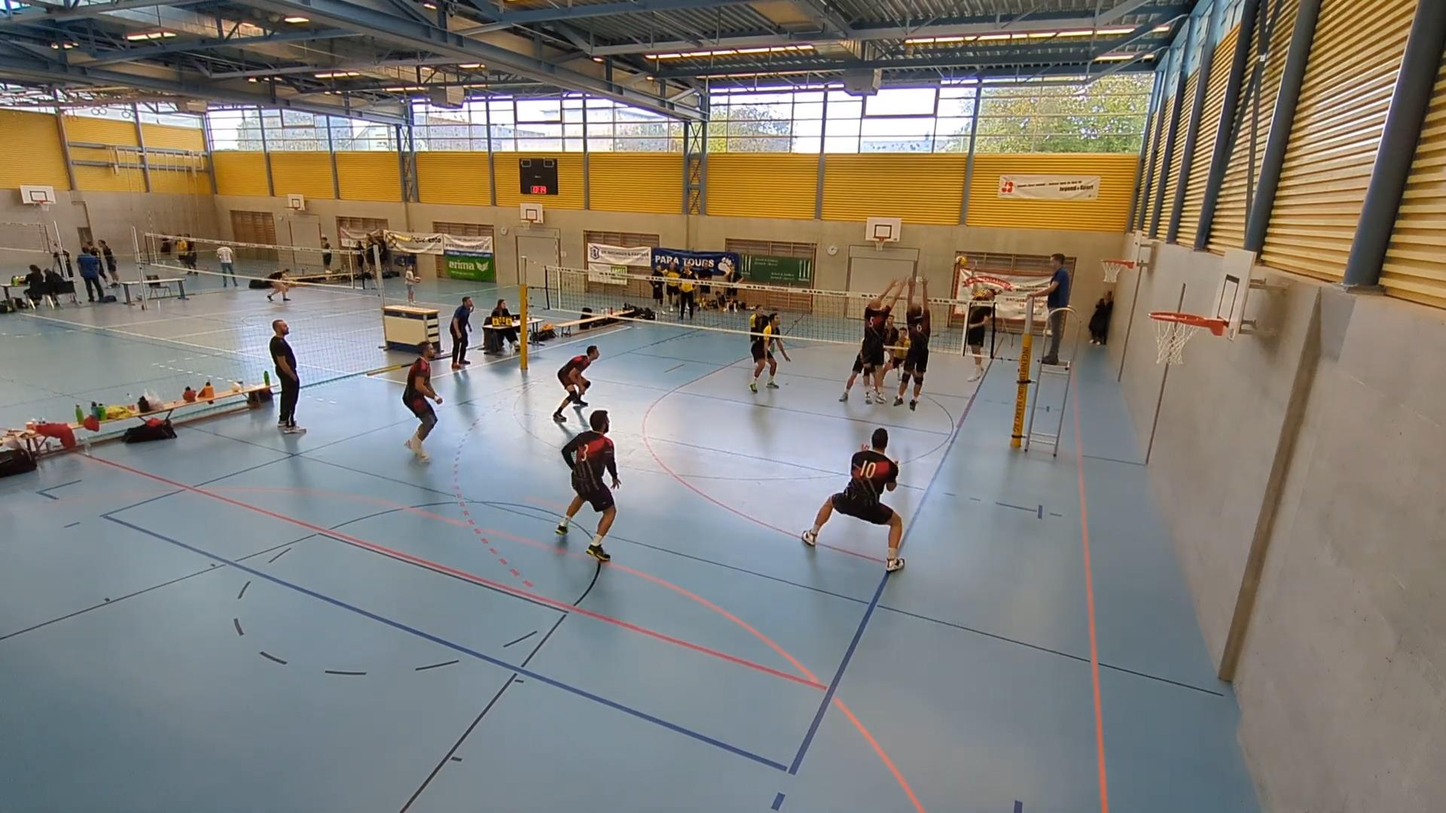Attack: (943, 268, 1001, 382)
Block: (839, 275, 908, 410), (901, 275, 937, 419)
Player: (801, 428, 904, 571), (556, 410, 620, 561), (402, 341, 442, 461), (552, 346, 599, 422), (749, 313, 791, 393), (881, 313, 908, 379)
ball: (954, 256, 972, 268)
